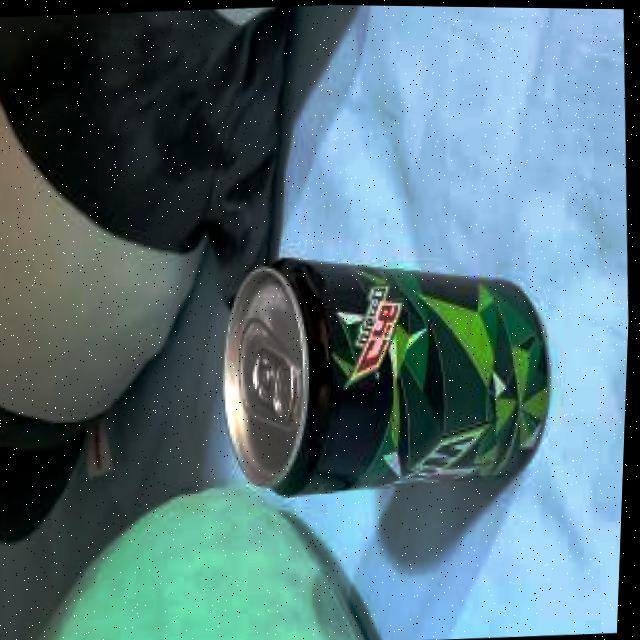Lata: (226, 259, 549, 494)
